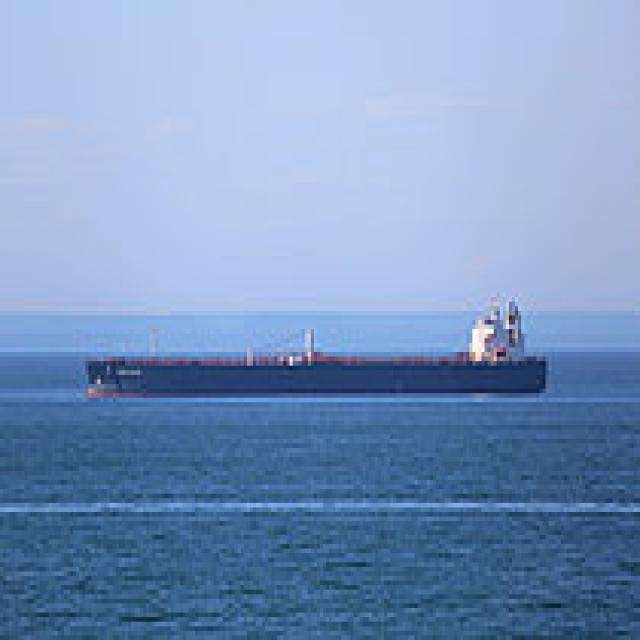Tanker: (76, 283, 549, 398)
